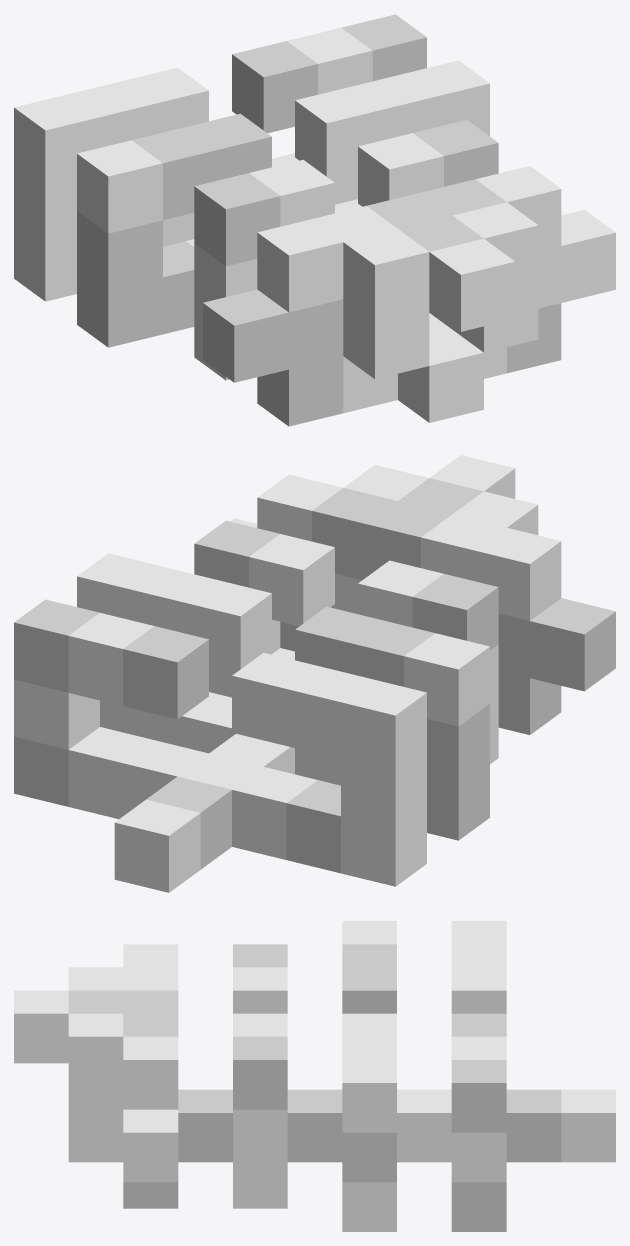
The model's file is Body.obj.
3 views of the same model, one above another, from view 1: azimuth 30°, elevation 25°; view 2: azimuth 150°, elevation 25°; view 3: azimuth 270°, elevation 25° (orthographic). The views are drawn at different scales.
Size of the model in its own units: 0.7 by 0.3 by 1.1.
1 material, 1 textured.
